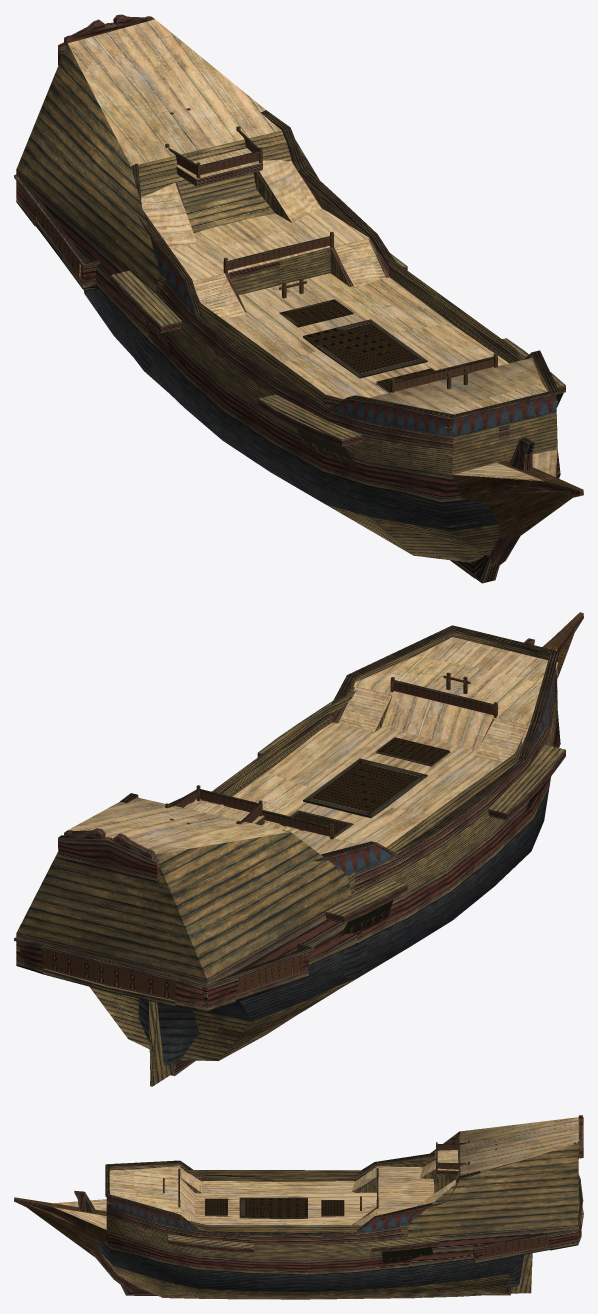
Rendered from pir_m_shp_brig_regular.fbx.
3 renders of one model, top to bottom at view 1: azimuth 30°, elevation 25°; view 2: azimuth 150°, elevation 25°; view 3: azimuth 270°, elevation 25°, orthographic. The views are drawn at different scales.
Parts seen in each view (by area): view 1: decks_stairs.004, polySurface155, hullB.003, decks_stairs.001, ship_deck_deck, hull_lower.001, decks_stairs.003, cabin_door_wall.002, main_hull, hull.003, ship_deck_deck.001, bottom_hull_dark (+26 smaller); view 2: polySurface155, ship_deck_deck, aft_wall4, decks_stairs.004, ship_deck_deck.001, hullB.003, bottom_hull_dark, hull_lower.001, custom.002, grate_1.001, main_rail, hull.003 (+26 smaller); view 3: polySurface156, decks_stairs.004, hullB.003, hull_lower.001, bottom_hull_dark, ship_deck_deck, main_hull, hull.003, decks_stairs.001, pattern_0, ship_deck_deck.001, custom.002 (+33 smaller).
Boxes of the visible parts, x1,y1,x2,y2 form: decks_stairs.004: (67, 19, 557, 427); polySurface155: (16, 43, 160, 292); hullB.003: (83, 289, 499, 530); decks_stairs.001: (171, 148, 369, 313); ship_deck_deck: (267, 282, 547, 414); hull_lower.001: (152, 331, 451, 493); decks_stairs.003: (141, 148, 384, 318); cabin_door_wall.002: (138, 130, 291, 232); main_hull: (158, 296, 452, 474); hull.003: (158, 280, 452, 450); ship_deck_deck.001: (369, 358, 541, 410); bottom_hull_dark: (325, 504, 499, 562); polySurface155: (155, 832, 351, 979); ship_deck_deck: (267, 637, 548, 814); aft_wall4: (16, 851, 206, 979); decks_stairs.004: (68, 662, 558, 854); ship_deck_deck.001: (353, 656, 541, 749); hullB.003: (208, 777, 550, 1021); bottom_hull_dark: (89, 949, 405, 1060); hull_lower.001: (360, 712, 557, 939); custom.002: (16, 912, 357, 1010); grate_1.001: (303, 758, 427, 818); main_rail: (132, 625, 559, 861); hull.003: (354, 673, 556, 894); polySurface156: (407, 1143, 578, 1238); decks_stairs.004: (110, 1117, 578, 1225); hullB.003: (98, 1249, 523, 1291); hull_lower.001: (107, 1230, 456, 1274); bottom_hull_dark: (99, 1251, 509, 1299); ship_deck_deck: (109, 1167, 376, 1225); main_hull: (106, 1215, 402, 1260); hull.003: (106, 1207, 404, 1245); decks_stairs.001: (357, 1142, 577, 1216); pattern_0: (106, 1170, 408, 1238); ship_deck_deck.001: (134, 1166, 194, 1216); custom.002: (409, 1226, 578, 1267).
Size of the model in its own units: 6880 by 7560 by 22742.
2 materials, 2 textured.
